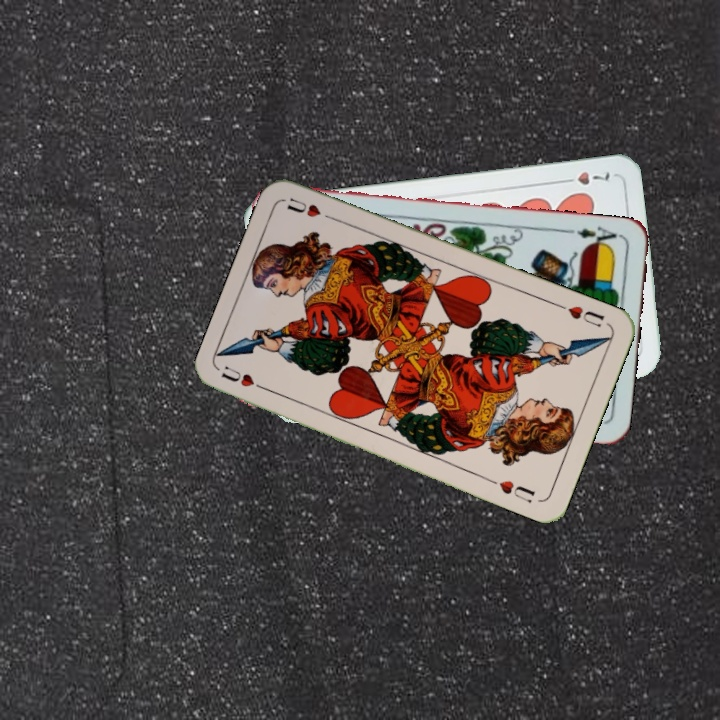EA: (573, 222, 624, 250)
H7: (556, 167, 612, 188)
HU: (217, 362, 274, 395), (554, 300, 607, 330)
